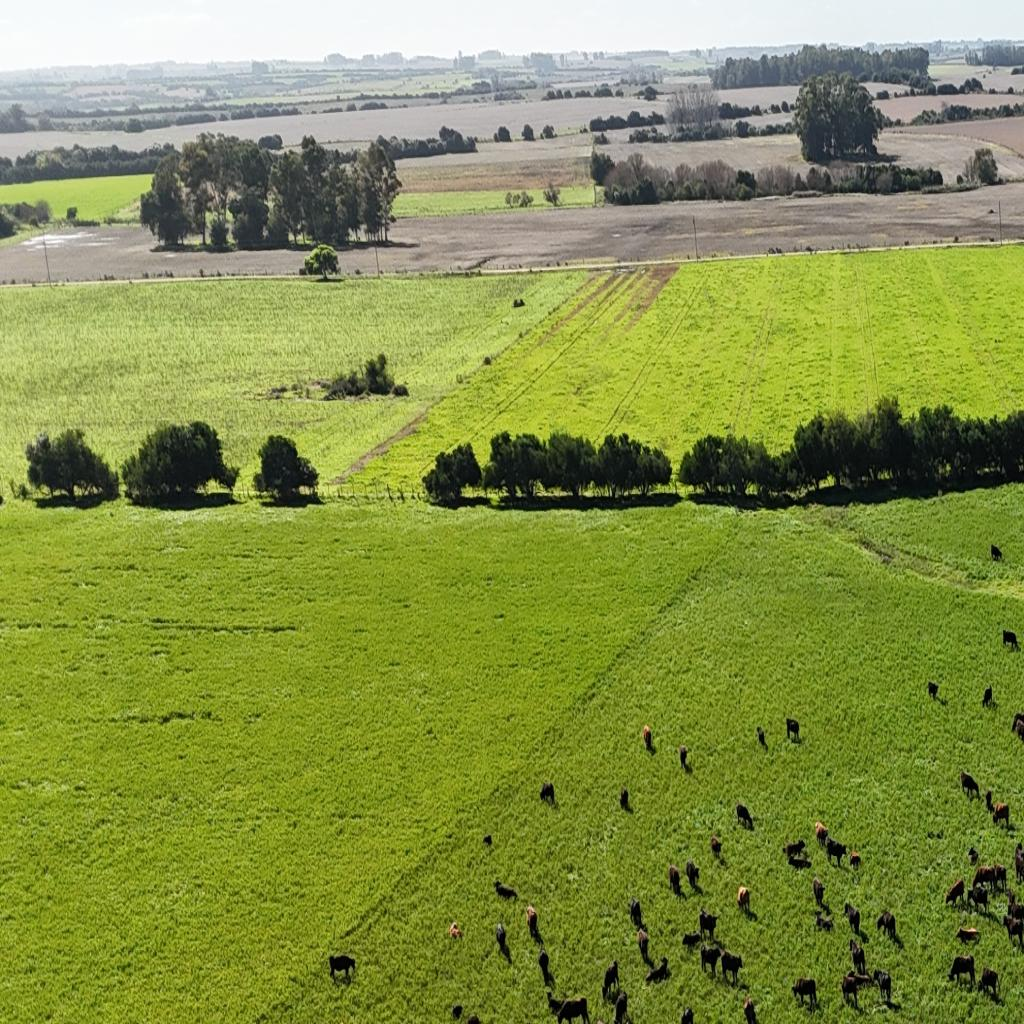cow: (556, 995, 589, 1024), (948, 954, 976, 988), (841, 971, 866, 1009), (792, 977, 818, 1011), (720, 950, 742, 986), (700, 942, 722, 976), (1003, 913, 1023, 948), (646, 956, 670, 985), (980, 966, 1000, 1000), (967, 885, 989, 915), (330, 953, 356, 978), (946, 878, 966, 910), (699, 908, 718, 941), (826, 837, 847, 866), (873, 970, 892, 1002), (972, 864, 992, 894), (495, 933, 513, 966), (603, 961, 619, 998), (877, 910, 896, 941), (843, 902, 860, 936), (960, 771, 980, 799), (850, 940, 866, 974), (991, 863, 1008, 893), (783, 840, 805, 863), (992, 802, 1010, 830), (955, 924, 980, 944), (614, 990, 628, 1024), (495, 880, 518, 900), (546, 990, 564, 1015), (743, 995, 758, 1024), (736, 801, 752, 828), (629, 896, 643, 926), (681, 930, 702, 950), (638, 929, 650, 963), (853, 971, 874, 990), (789, 852, 811, 870), (686, 859, 699, 889), (1010, 702, 1024, 729), (813, 876, 825, 906), (668, 864, 680, 894), (1002, 630, 1019, 651), (529, 917, 542, 944), (540, 781, 555, 804), (816, 913, 834, 932), (815, 821, 828, 847), (737, 886, 750, 912), (786, 718, 800, 742), (526, 903, 537, 933), (1014, 915, 1024, 946), (710, 835, 722, 858), (538, 949, 548, 975), (496, 922, 506, 948), (982, 686, 993, 708), (681, 1006, 694, 1024), (620, 787, 630, 810), (1016, 886, 1024, 914), (644, 966, 655, 986), (1018, 848, 1024, 884), (680, 746, 689, 770), (927, 680, 939, 698), (643, 724, 652, 748), (450, 1004, 462, 1021), (969, 846, 979, 866), (756, 726, 766, 746), (986, 789, 994, 813), (991, 544, 1002, 561), (850, 852, 860, 870), (467, 1015, 481, 1024), (1019, 720, 1024, 743), (1018, 710, 1024, 729), (482, 834, 492, 845), (596, 1016, 605, 1024)
